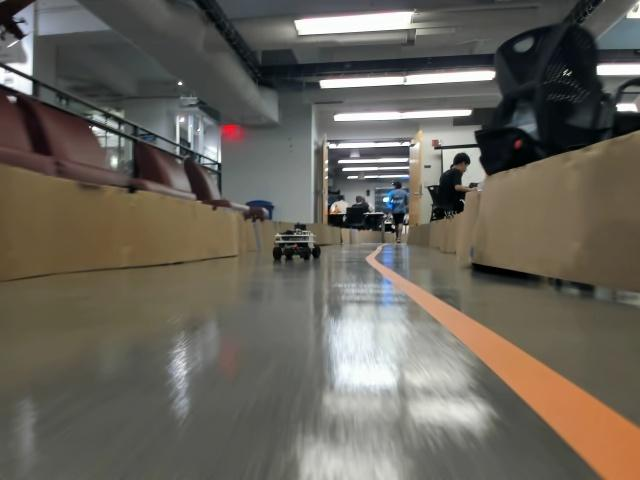Car: (272, 223, 319, 259)
